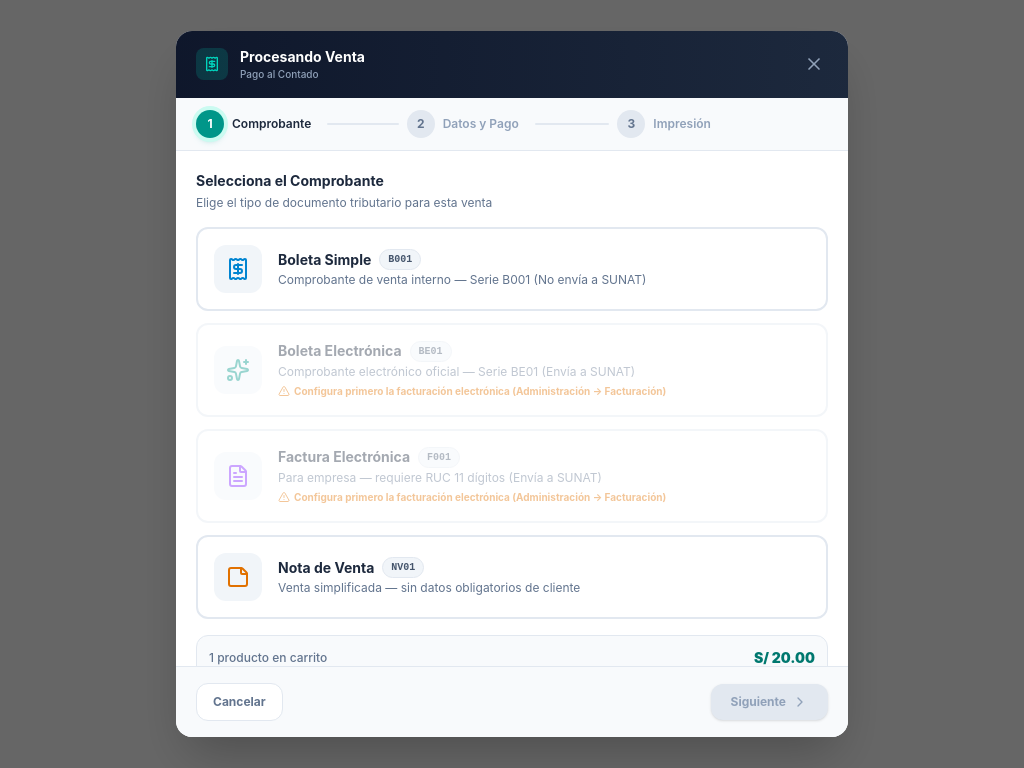
it: CheckoutModal - contrato canónico de venta › muestra el error real de comprobante sin revertir una venta ya registrada
What coordinates should you click on to do the following:
click the button "Nota de Venta"
I would click on:
 (238, 577)
Its box is [196, 535, 828, 619].
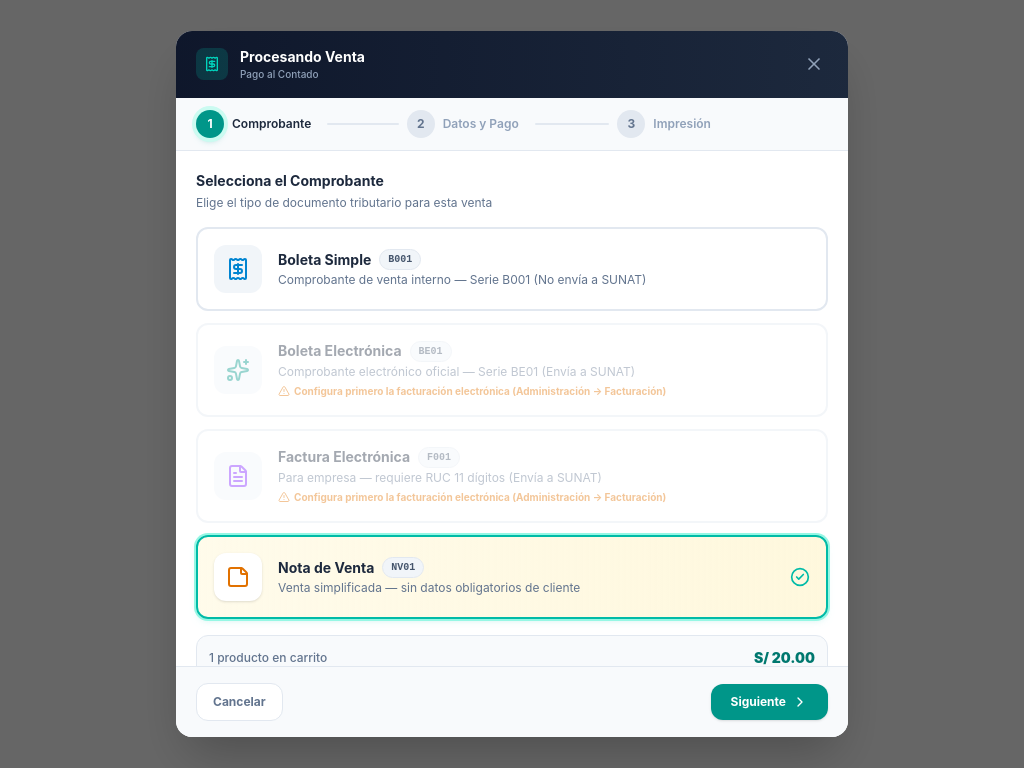
What coordinates should you click on to do the following:
click the button "Siguiente"
I would click on:
 (769, 702)
Its box is [710, 684, 828, 720].
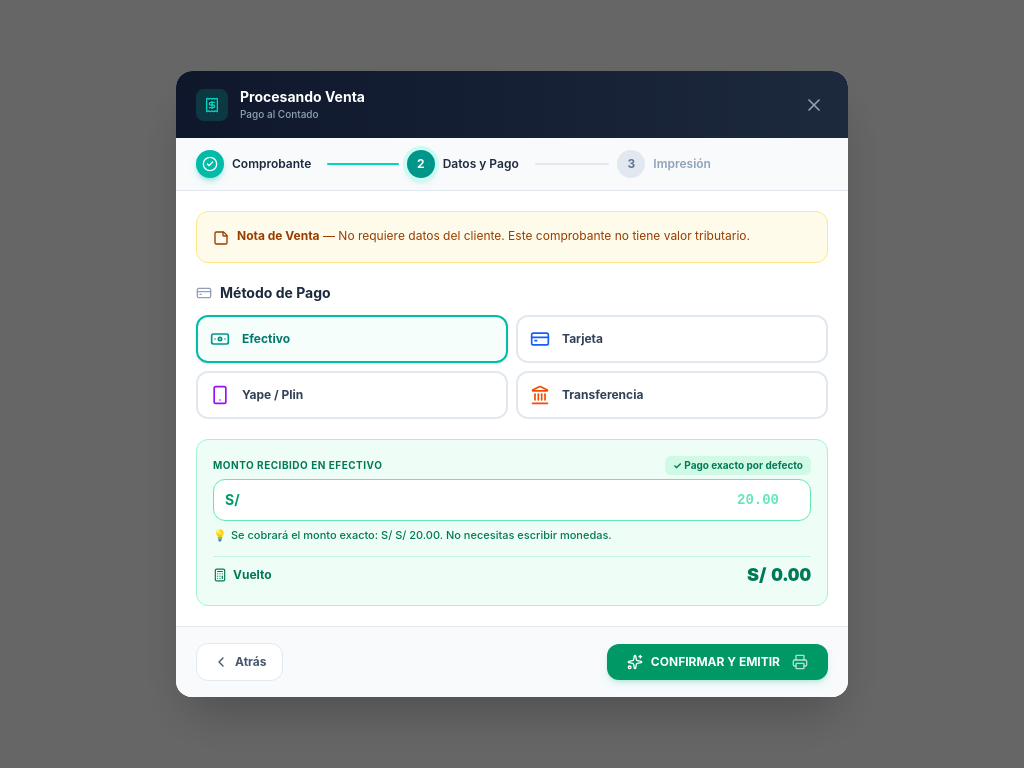
What coordinates should you click on to do the following:
click the button "Yape / Plin"
I would click on:
 (273, 395)
Its box is [196, 371, 508, 419].
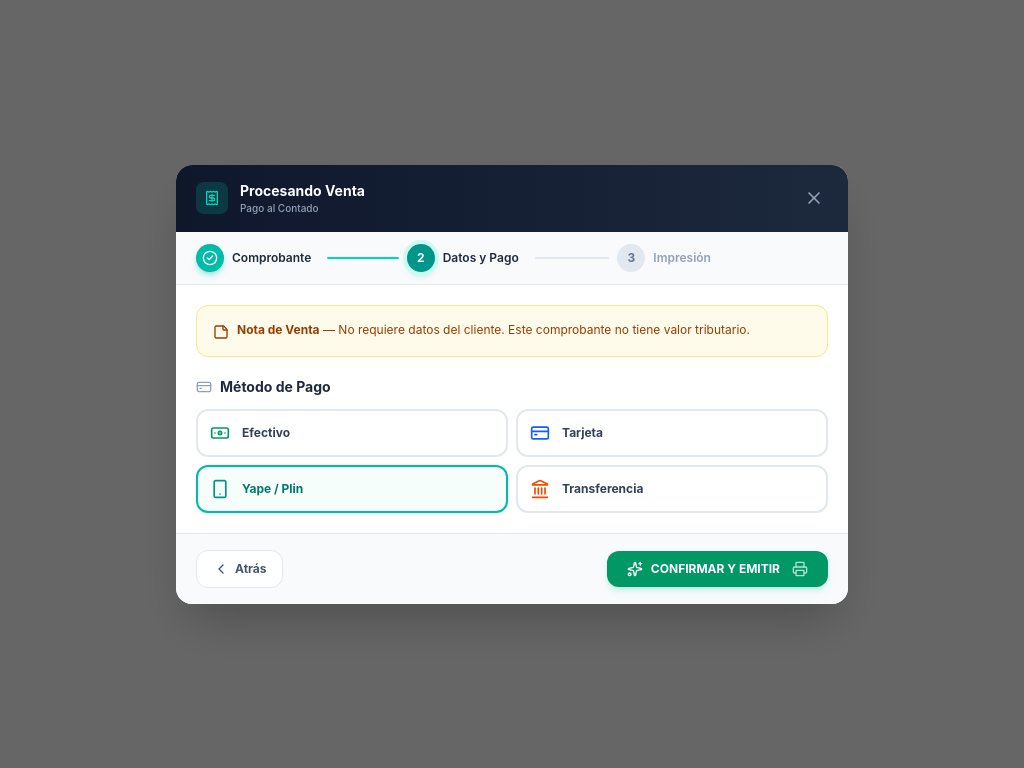
What coordinates should you click on to do the following:
click the button "CONFIRMAR Y EMITIR"
I would click on:
 (717, 568)
Its box is [607, 550, 828, 586].
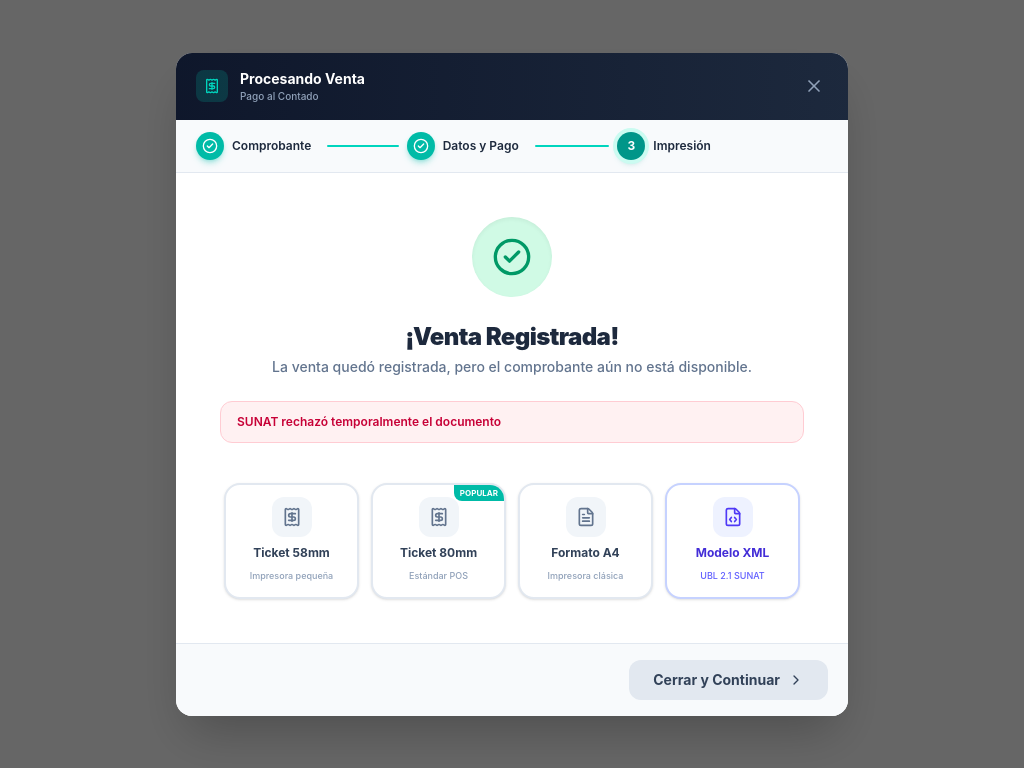
Check: the text "SUNAT rechazó temporalmente el documento" is shown, box [220, 400, 804, 442]
Check: the heading "¡Venta Registrada!" is shown, box [405, 322, 619, 350]
